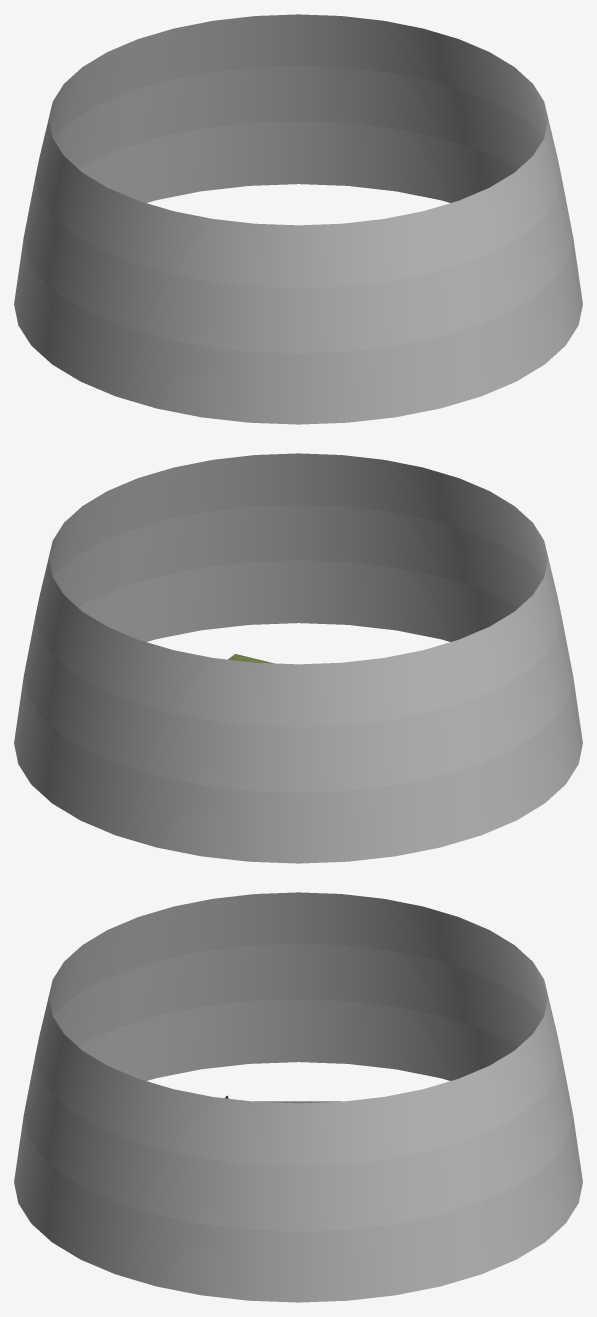
The model's file is Example_Track_A.fbx.
3 renders of one model, top to bottom at view 1: azimuth 30°, elevation 25°; view 2: azimuth 150°, elevation 25°; view 3: azimuth 270°, elevation 25°, orthographic.
Parts seen in each view (by area): view 1: SkyDome; view 2: SkyDome; view 3: SkyDome.
Part boxes in pixels (<box>): SkyDome: <box>14,14,582,424</box>; SkyDome: <box>14,453,582,863</box>; SkyDome: <box>14,892,582,1302</box>.
Size of the model in its own units: 46009 by 16457 by 46009.
